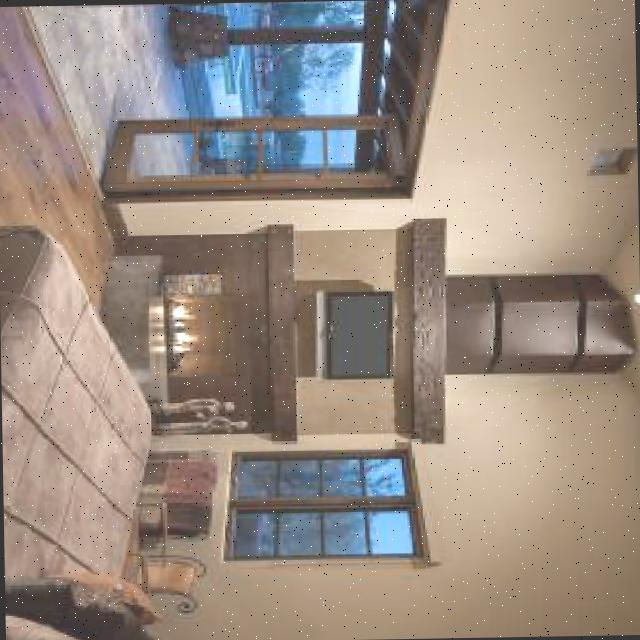fire: (161, 282, 199, 354)
